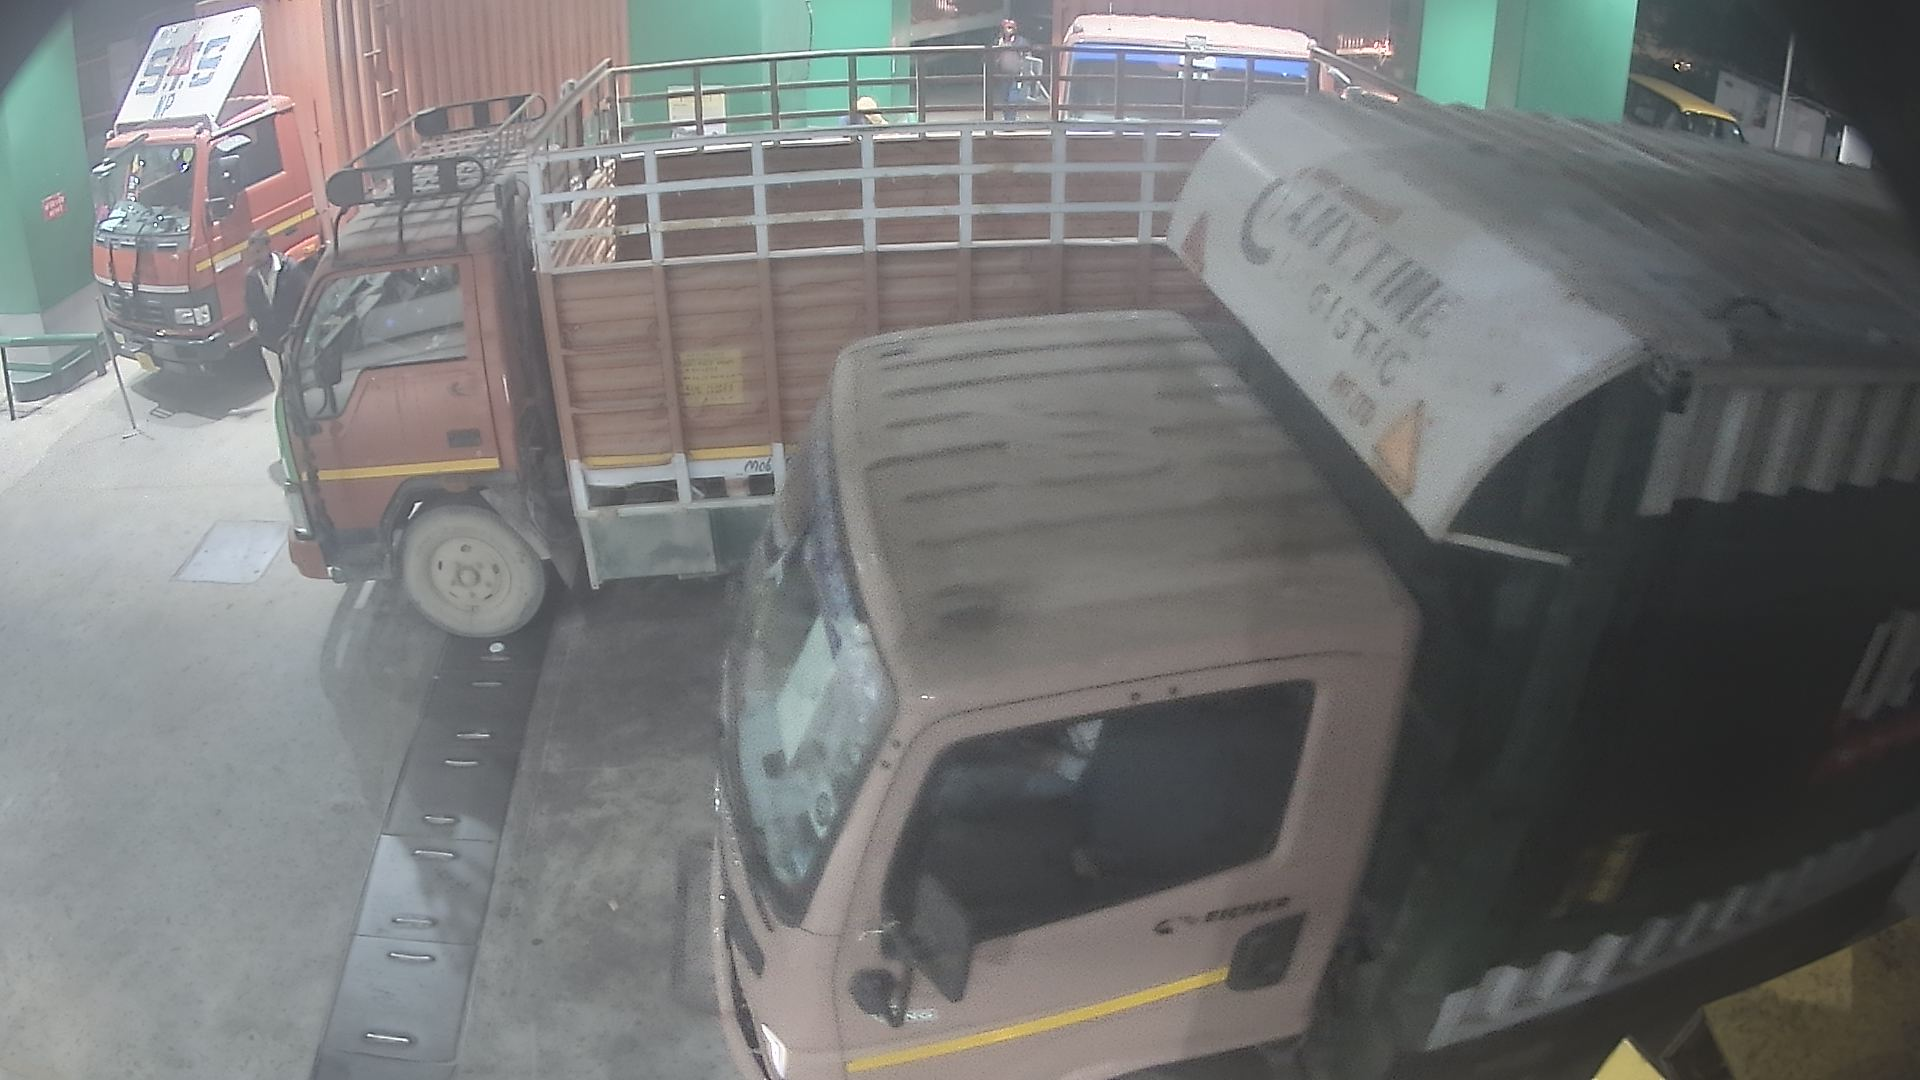Car: (1607, 53, 1776, 175)
HMV: (633, 50, 1915, 1077), (244, 12, 1497, 653), (49, 1, 650, 405), (976, 1, 1418, 158), (893, 0, 1054, 105)
Others Other: (91, 278, 160, 443)
